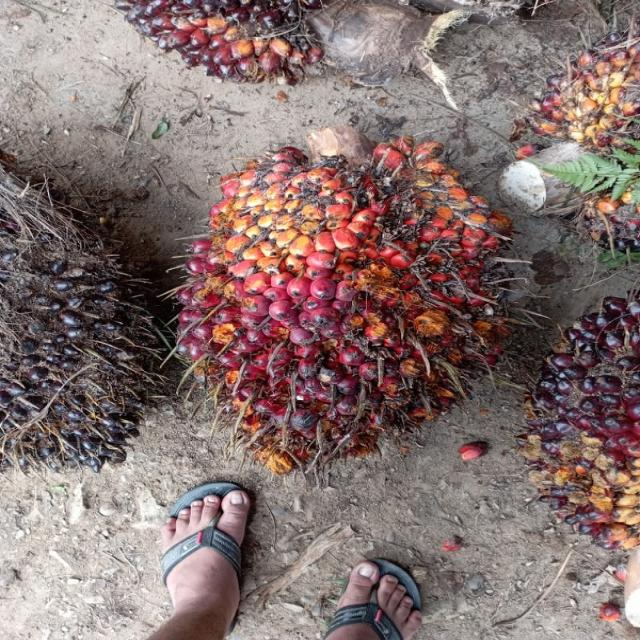fraksi 3: (131, 112, 556, 478)
